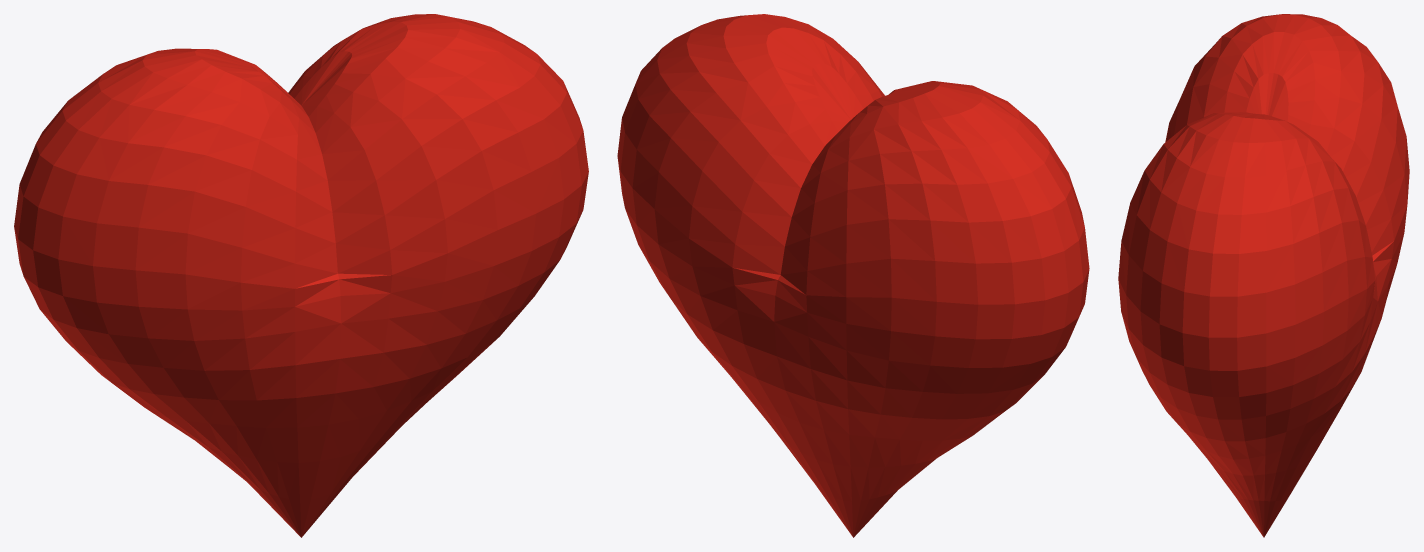
The model's file is corazonluz.dae.
3 views of the same model, side by side, from view 1: azimuth 30°, elevation 25°; view 2: azimuth 150°, elevation 25°; view 3: azimuth 270°, elevation 25° (orthographic). The views are drawn at different scales.
Visible parts, largest first — view 1: Heart; view 2: Heart; view 3: Heart.
Part boxes in pixels (x1,y1,x2,y2): Heart: [14, 14, 588, 537]; Heart: [617, 14, 1089, 537]; Heart: [1118, 14, 1409, 537].
Bounding box in the file's own units: 5.07 × 2.71 × 4.75.
